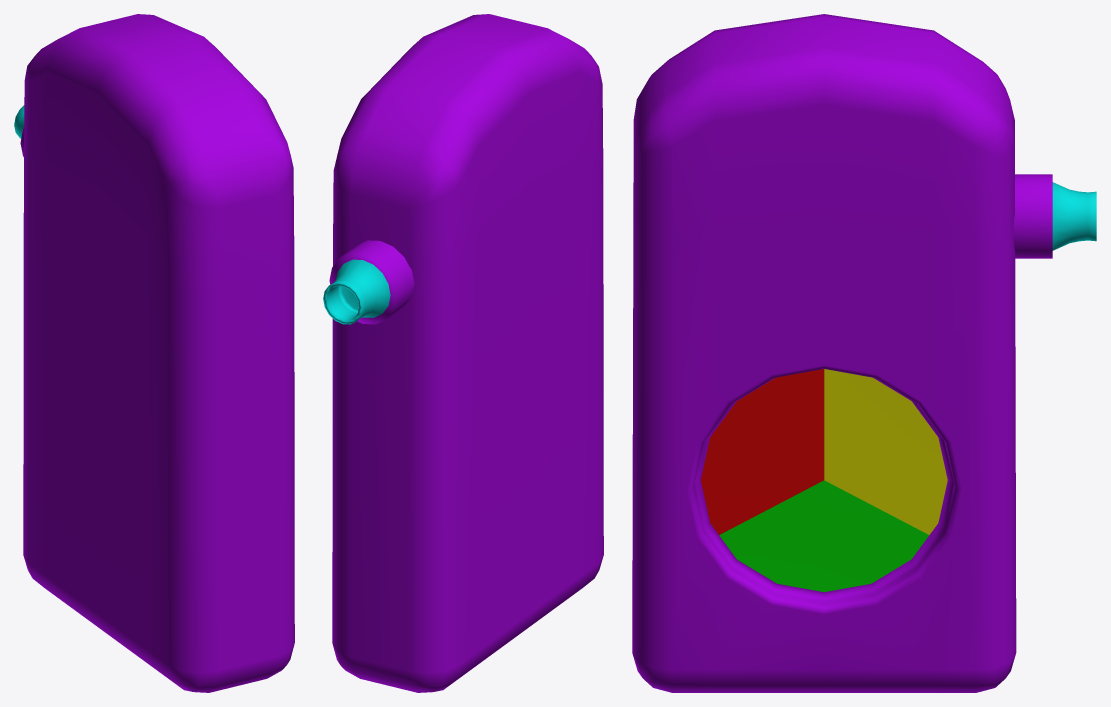
File: Alcoholimetro 1.fbx
3 views of the same model, side by side, from view 1: azimuth 30°, elevation 25°; view 2: azimuth 150°, elevation 25°; view 3: azimuth 270°, elevation 25° (orthographic). The views are drawn at different scales.
Visible parts, largest first — view 1: Cube.022; view 2: Cube.022; view 3: Cube.022.
Part boxes in pixels (left/top/right/bottom): Cube.022: left=14, top=14, right=294, bottom=692; Cube.022: left=323, top=14, right=603, bottom=692; Cube.022: left=632, top=14, right=1096, bottom=692.
Bounding box in the file's own units: 0.0784 × 0.3619 × 0.2374.
